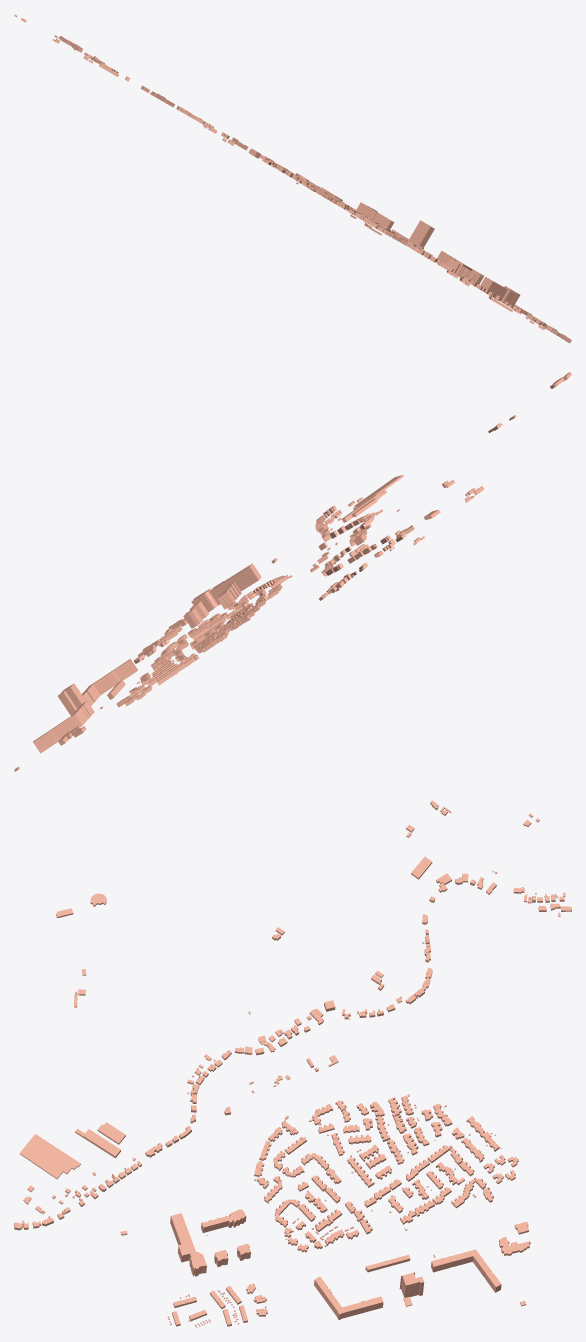
3 views of the same model, one above another, from view 1: azimuth 30°, elevation 25°; view 2: azimuth 150°, elevation 25°; view 3: azimuth 270°, elevation 25° (orthographic). The views are drawn at different scales.
Bounding box in the file's own units: 988 × 742 × 1149.
